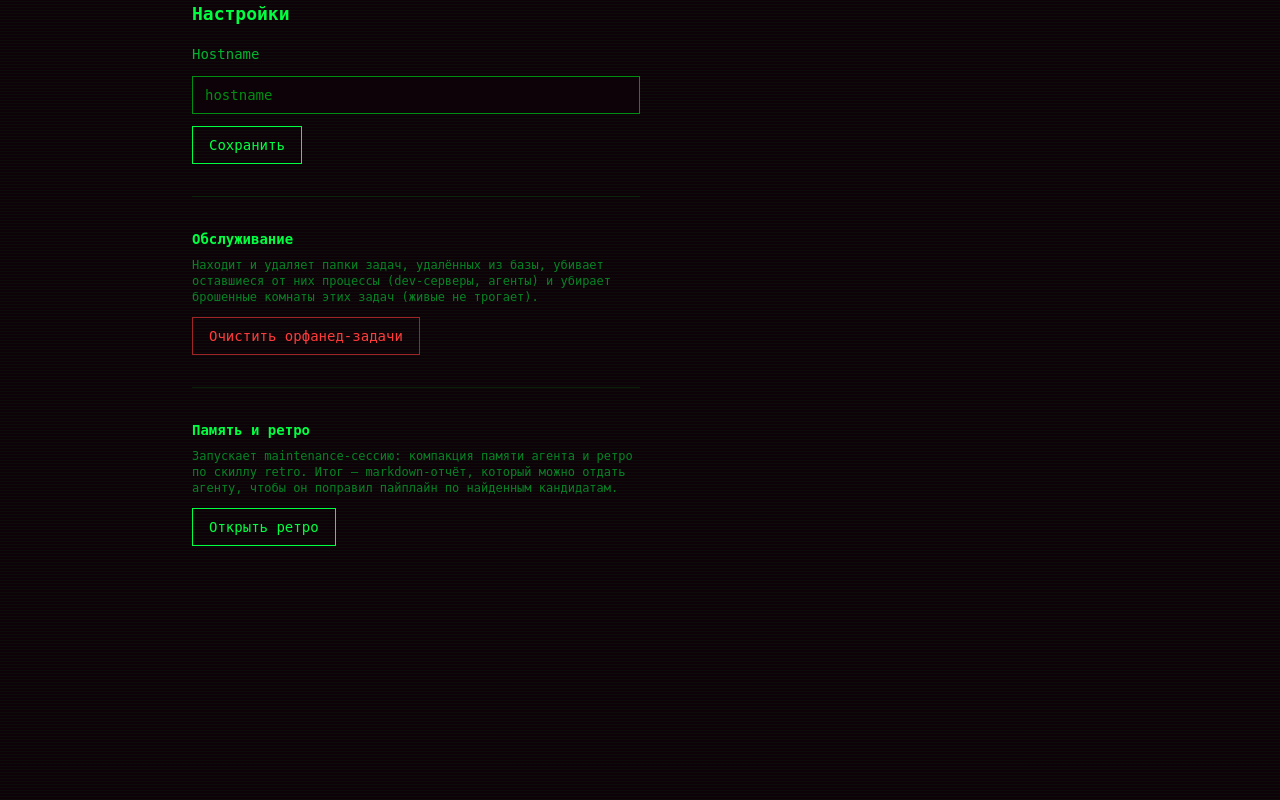
Test: Settings — память и ретро › кнопка открывает модалку с моделью, числом сессий и полем инструкций
Click the button with test id "settings-retro-open".
click(264, 527)  # box [192, 508, 336, 546]
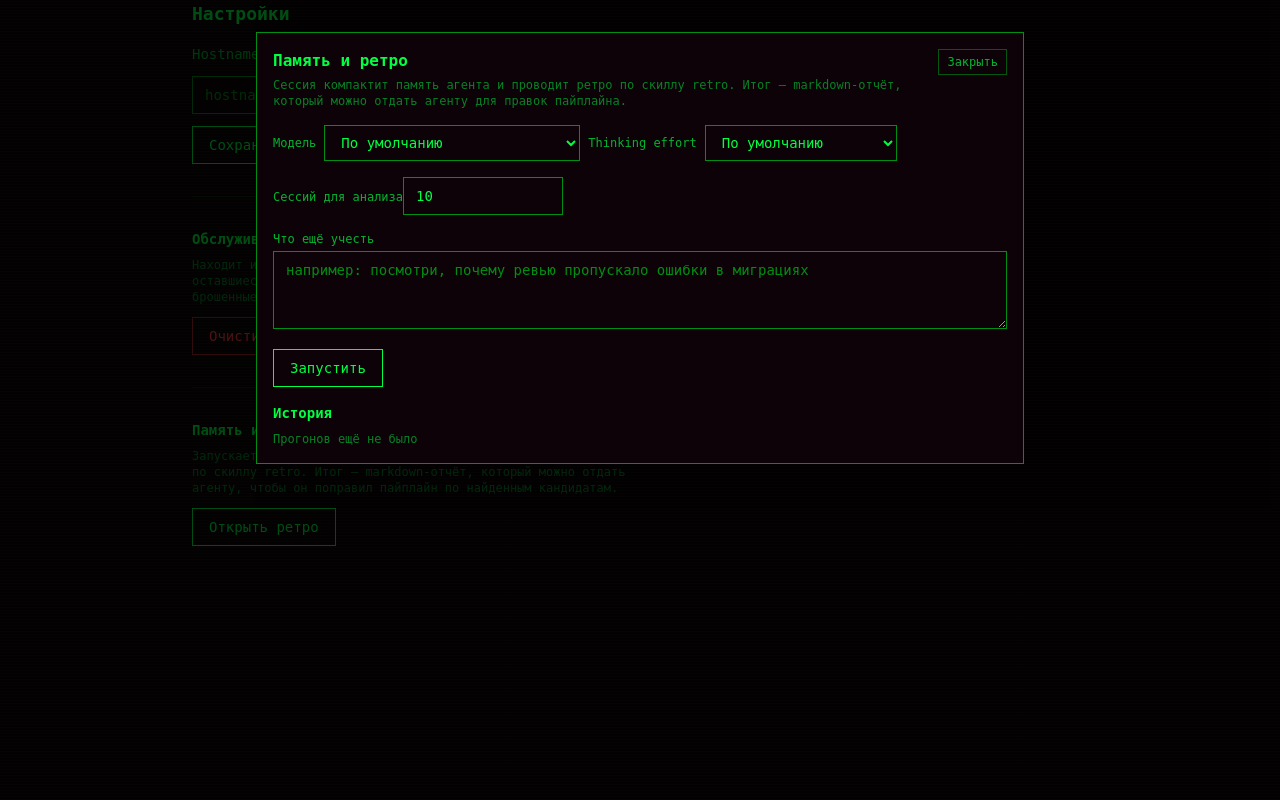
Expected: the dialog with test id "retro-modal" is shown
Expected: the dropdown with test id "retro-model" is shown, [324, 125, 580, 161]
Expected: the number field with test id "retro-sessions" holds "10", [403, 177, 563, 215]
